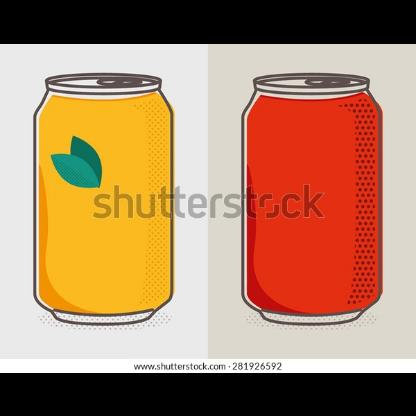Tin_Can: (28, 65, 184, 333), (236, 72, 382, 324)
